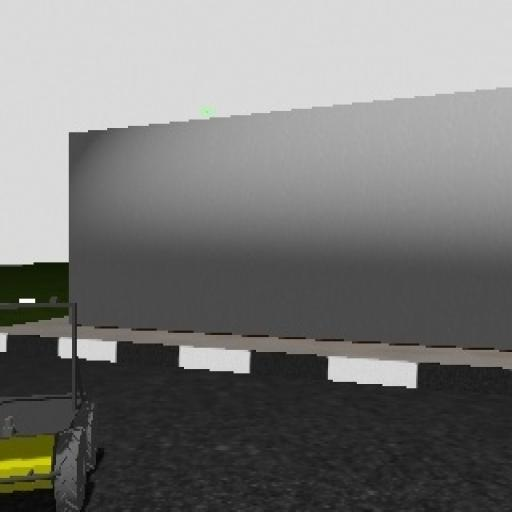huskya200: (0, 288, 98, 512)
